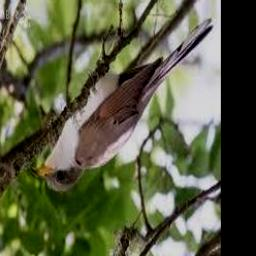Cuckoo: (31, 20, 213, 192)
